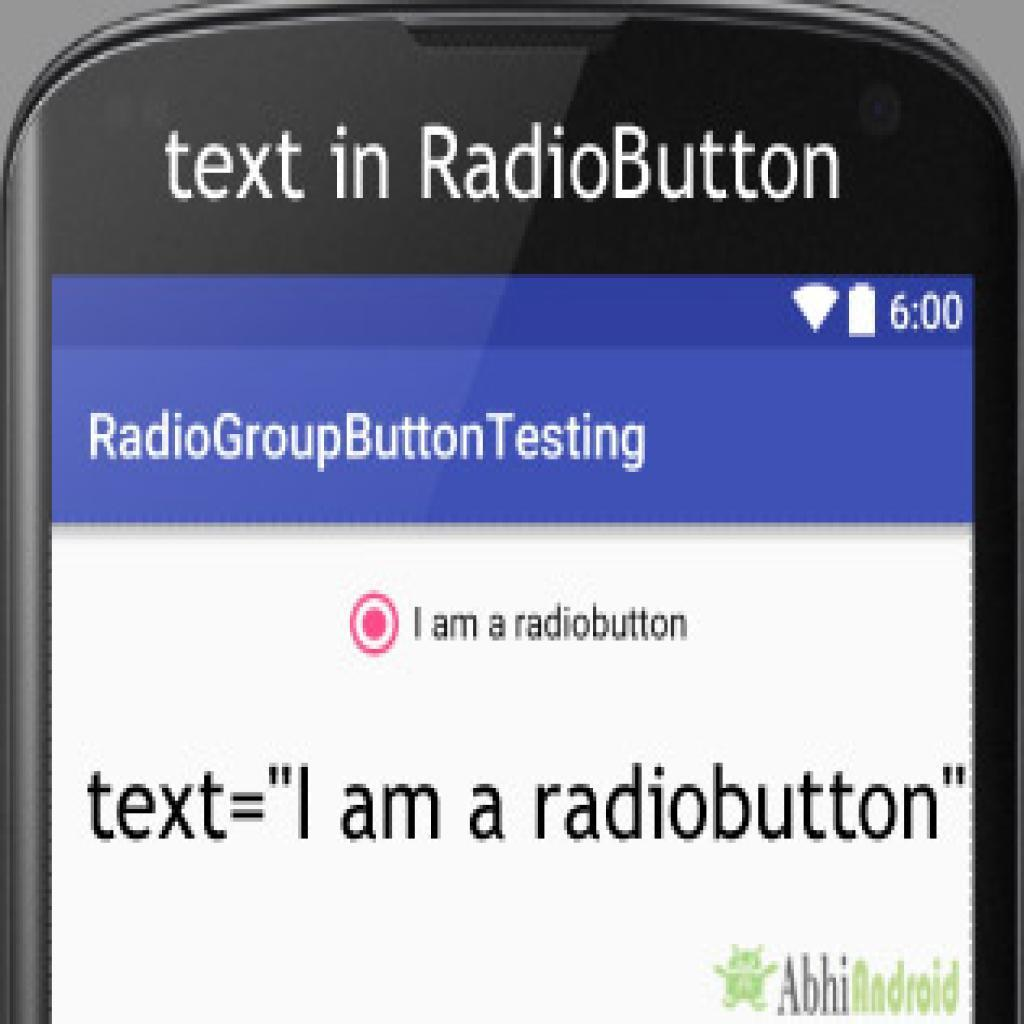radio: (346, 582, 402, 662)
